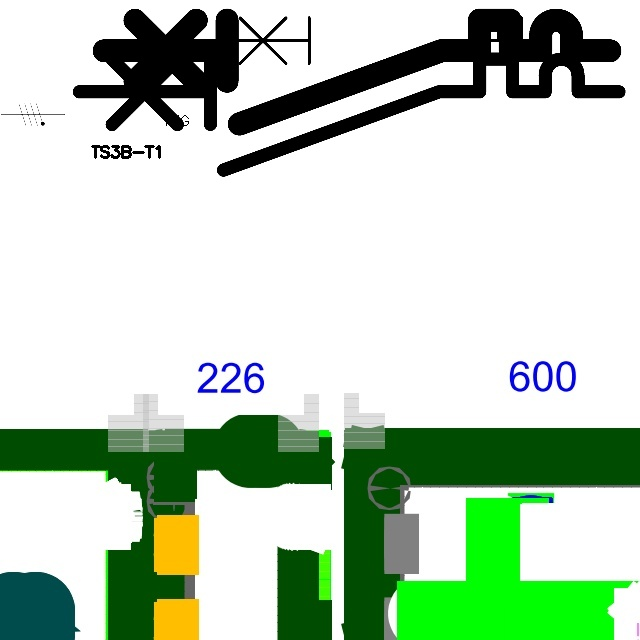interruptor_termomagnetico: (65, 45, 633, 184), (91, 7, 623, 137), (207, 8, 606, 105)
